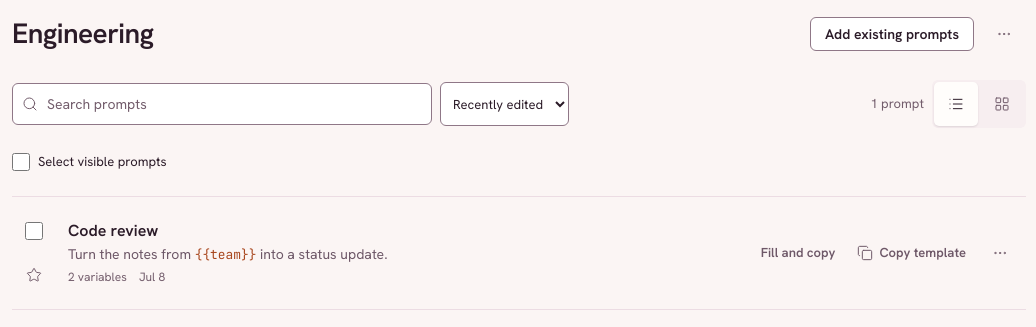
Test case: LibraryPage › offers to search the whole library when a folder has no match
Expected: the heading "Engineering" is shown, [12,17,154,51]
Step 1. Type "refund" into the search field labelled "Search prompts" → {"x": 222, "y": 104}, box [12,83,432,125]
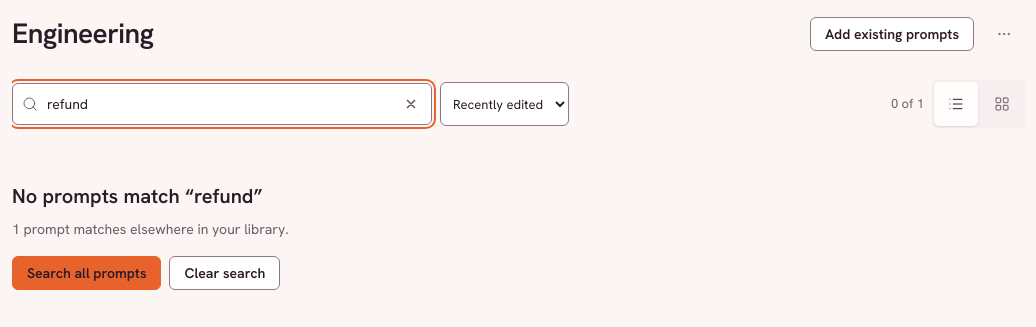
Expected: the text "1 prompt matches elsewhere in your library." is shown, [12,220,289,238]
